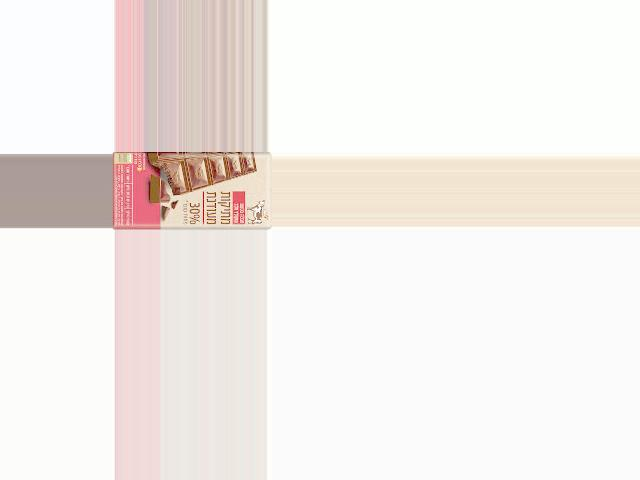chocolate: (113, 152, 271, 230)
